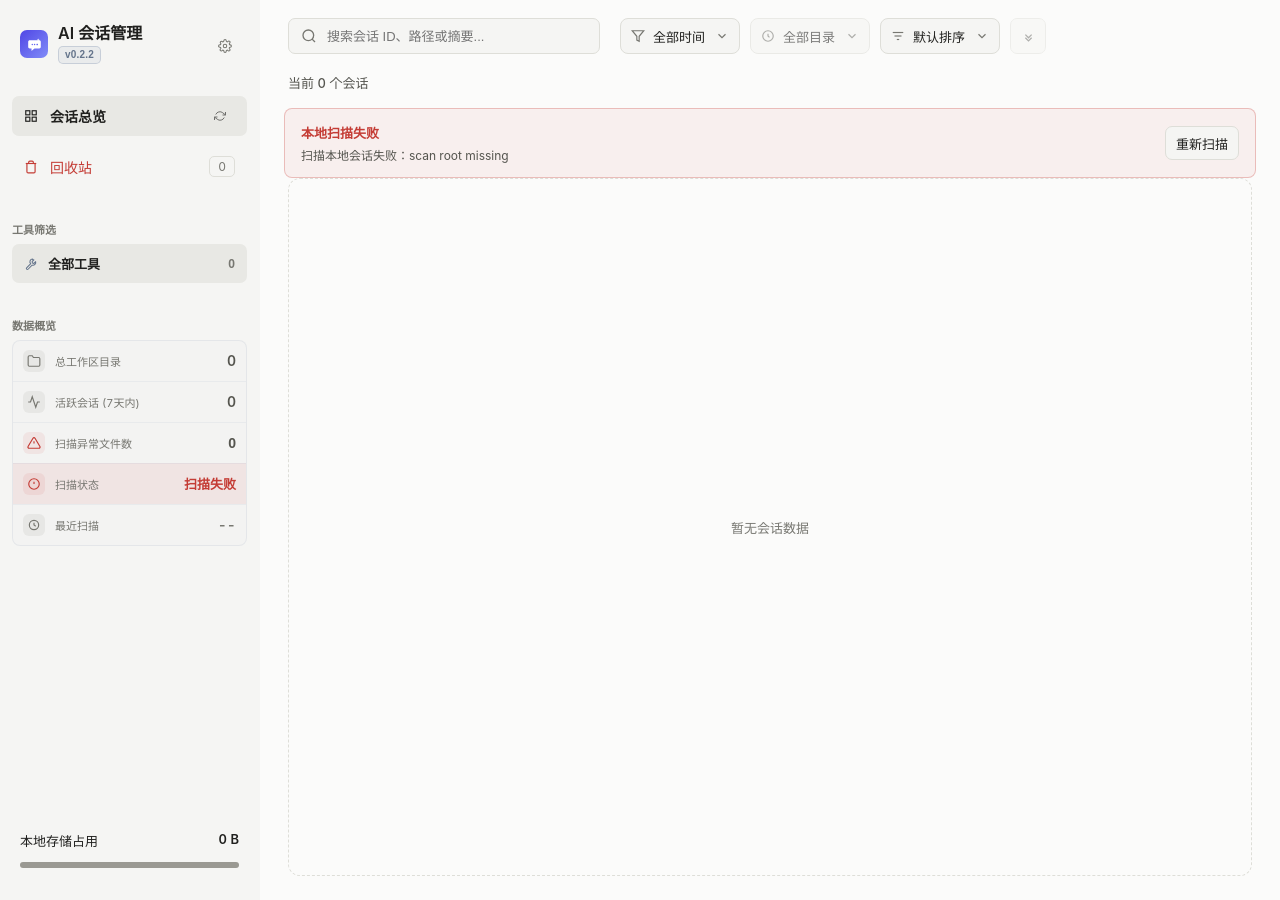
Test: shows readable scan failure inline and allows retry after startup refresh fails
Expected: the message "本地扫描失败 扫描本地会话失败：scan root missing 重新扫描" is shown, 284,108 -> 1256,178
Expected: the text "扫描本地会话失败：scan root missing" is shown, 301,146 -> 509,163
Click the button "重新扫描" at (1202, 143), box 1165,126 -> 1239,160
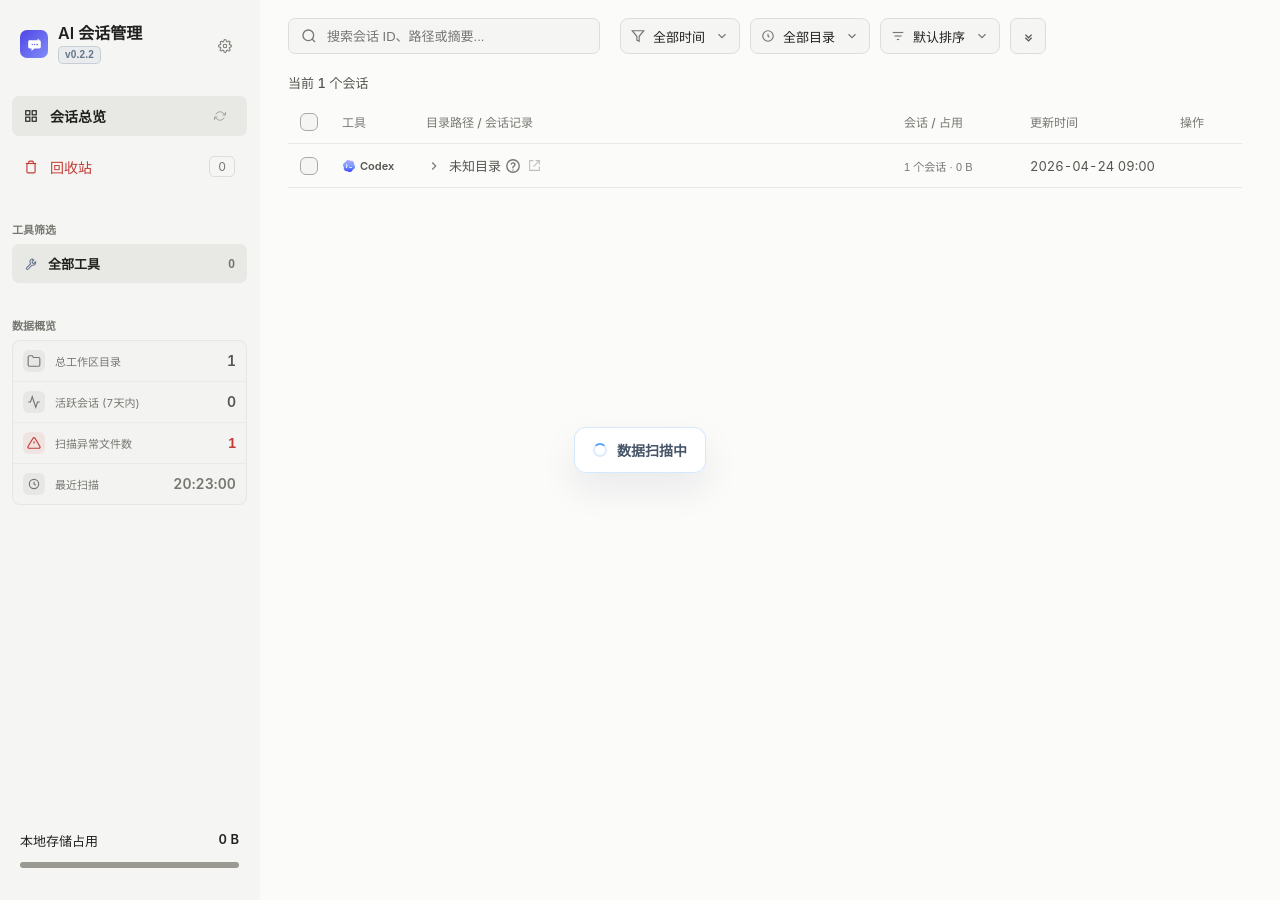
Now the message with test id "main-area-scan-error" is gone
Now the button with aria-label "open-scan-failures-drawer" shows "1", box 13,422 -> 246,463
Now the button named "toggle-group-" is shown, box 426,158 -> 442,174
Click the button named "group-expand-toggle" at (1028, 36), box 1010,18 -> 1046,54
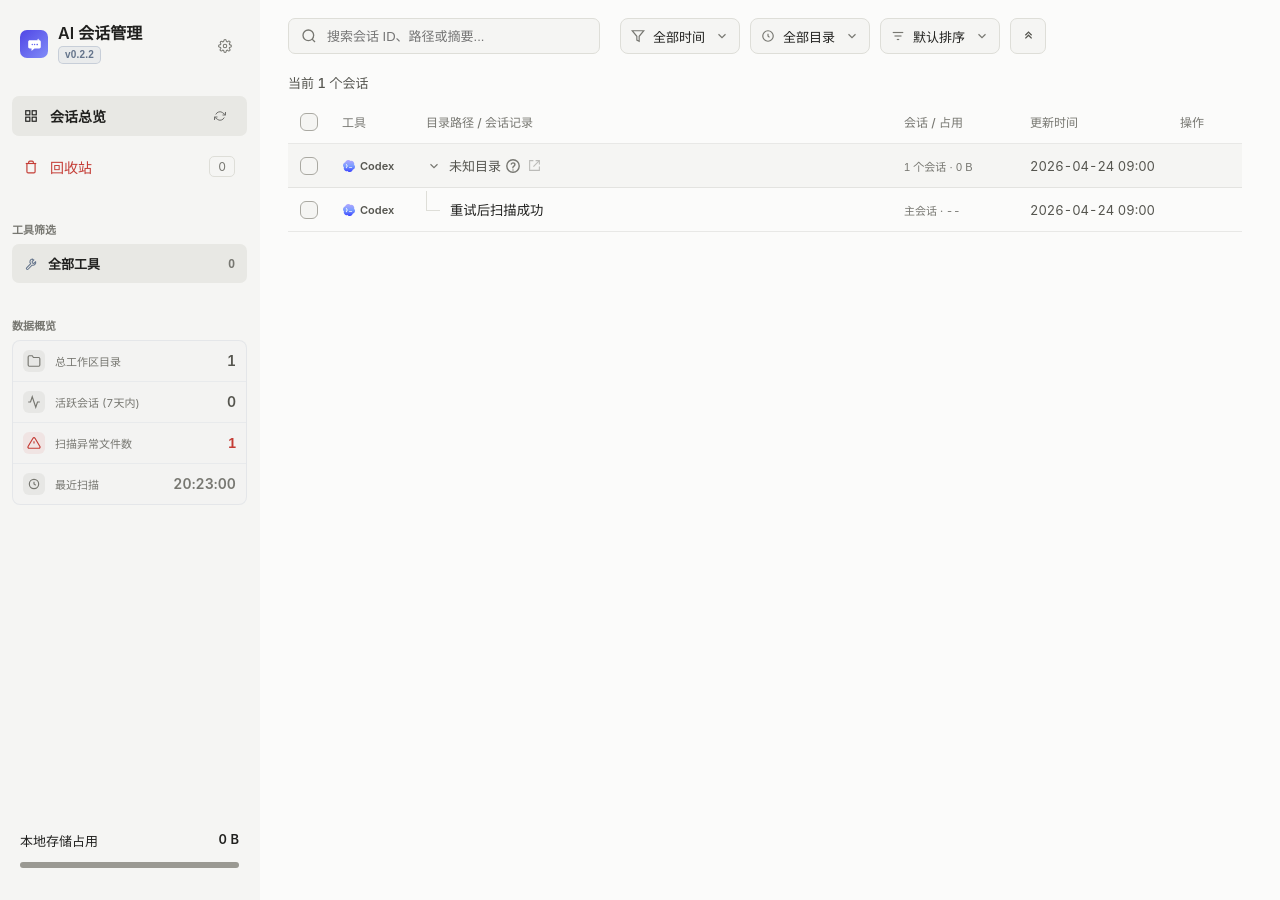
Now the button "重试后扫描成功" is shown, box 450,200 -> 880,219
